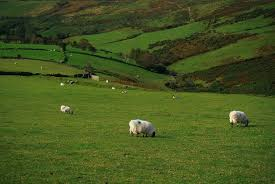sheep: (128, 118, 158, 138), (229, 109, 253, 128), (59, 104, 78, 118)
